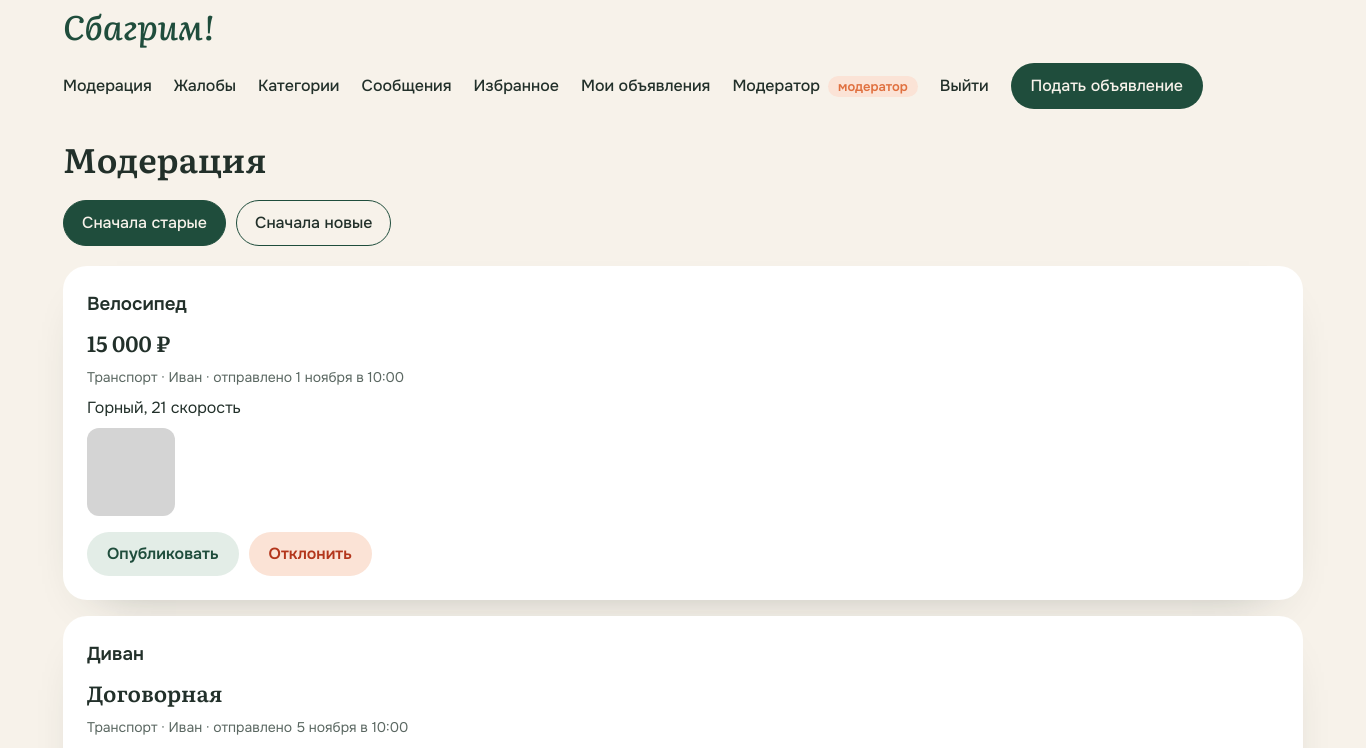
Test: модерация › отклоняет с причиной из готовых
Click the button "Отклонить" at (310, 554), box [248, 532, 372, 576]
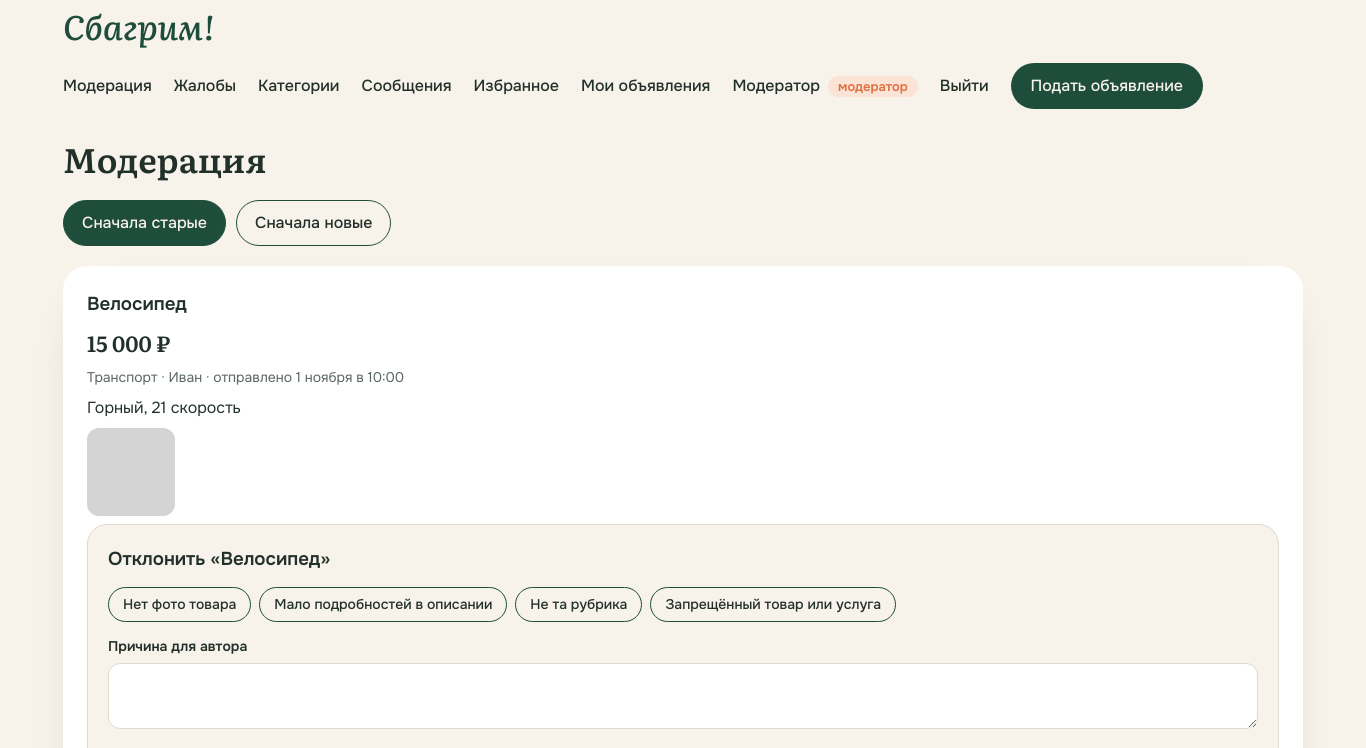
Click the button "Нет фото товара" at (180, 605), box [108, 587, 251, 622]
(page scrolled)
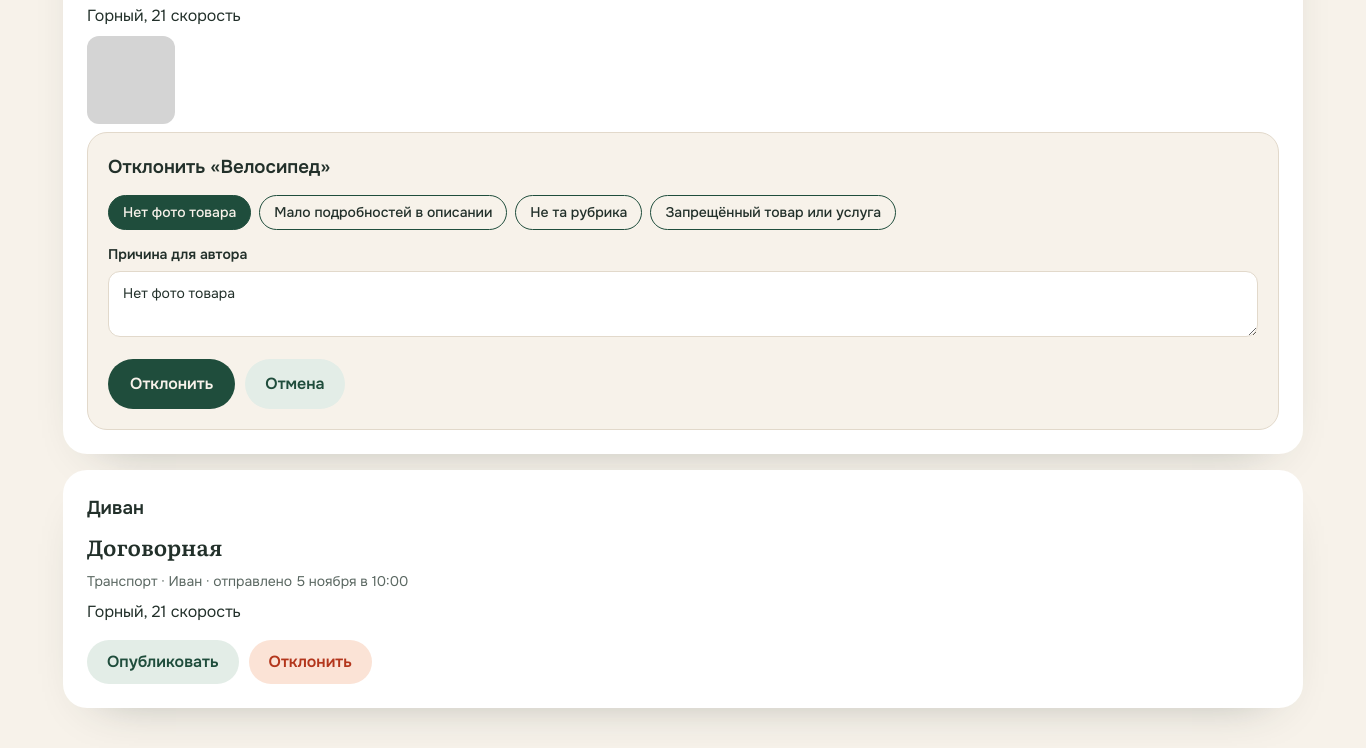
Expected: the text box labelled "Причина для автора" holds "Нет фото товара", [108, 271, 1258, 337]
Click the button "Отклонить" below "Причина для автора" at (172, 384), box [108, 359, 235, 409]
(page scrolled)
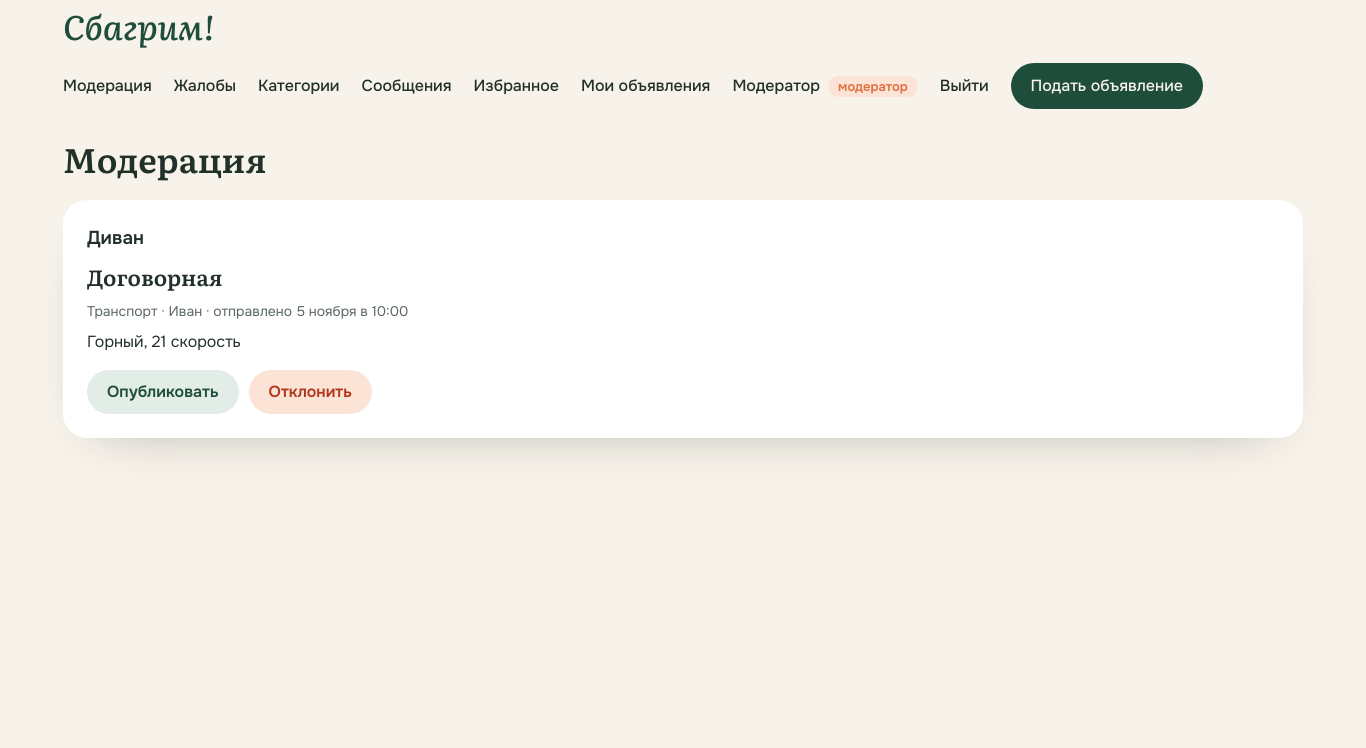
Expected: the heading "Велосипед" is gone
